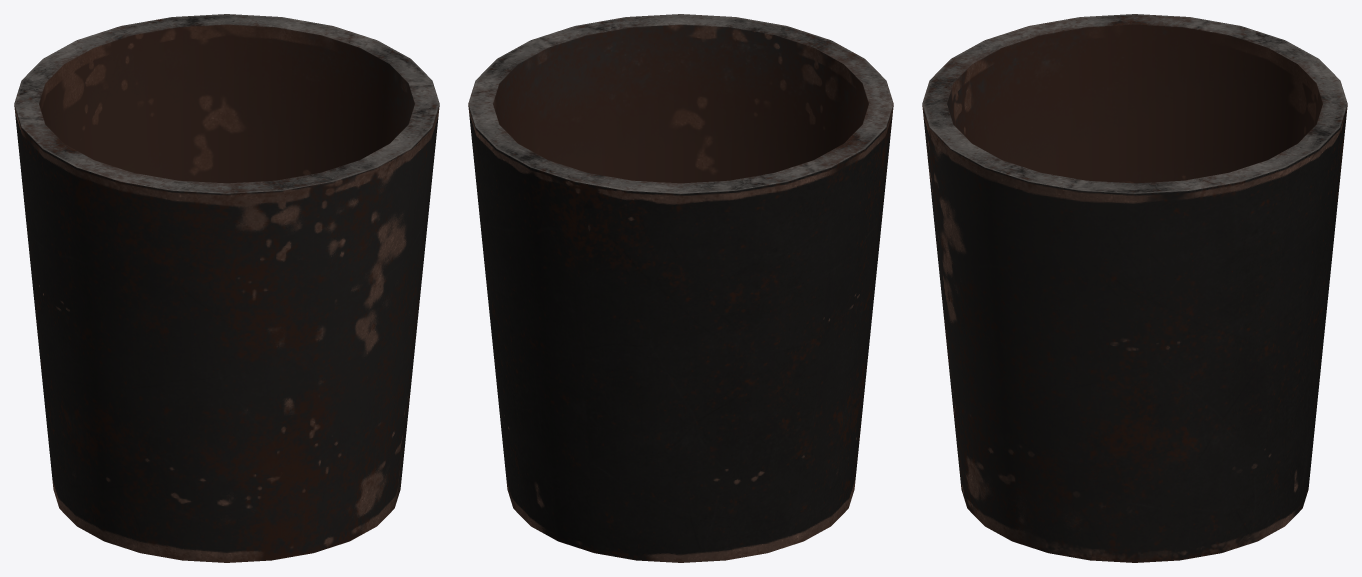
The model's file is TrashCan.fbx.
The picture shows the model from 3 angles, left to right: view 1: azimuth 30°, elevation 25°; view 2: azimuth 150°, elevation 25°; view 3: azimuth 270°, elevation 25°; orthographic projection.
Parts seen in each view (by area): view 1: TrashCan; view 2: TrashCan; view 3: TrashCan.
Boxes of the visible parts, box(x1,y1,x2,y2) form: TrashCan: box(14, 14, 439, 562); TrashCan: box(468, 14, 893, 562); TrashCan: box(922, 14, 1347, 562).
Size of the model in its own units: 0.3 by 0.3 by 0.3.
